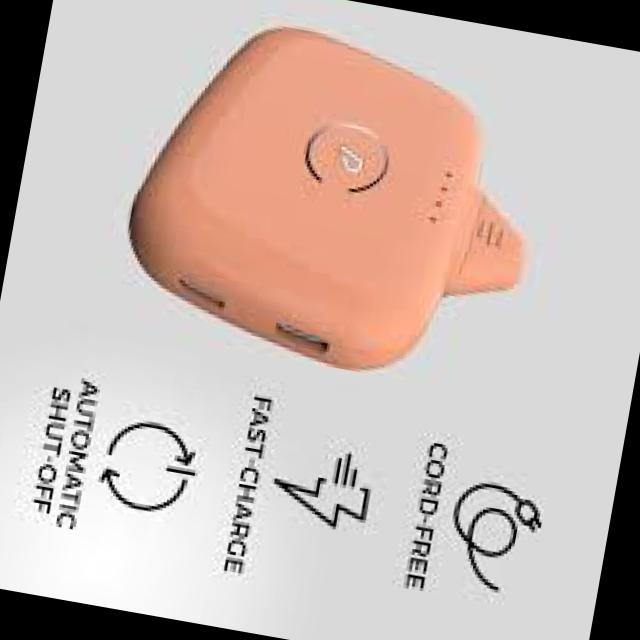portable-charger: (97, 0, 571, 402)
